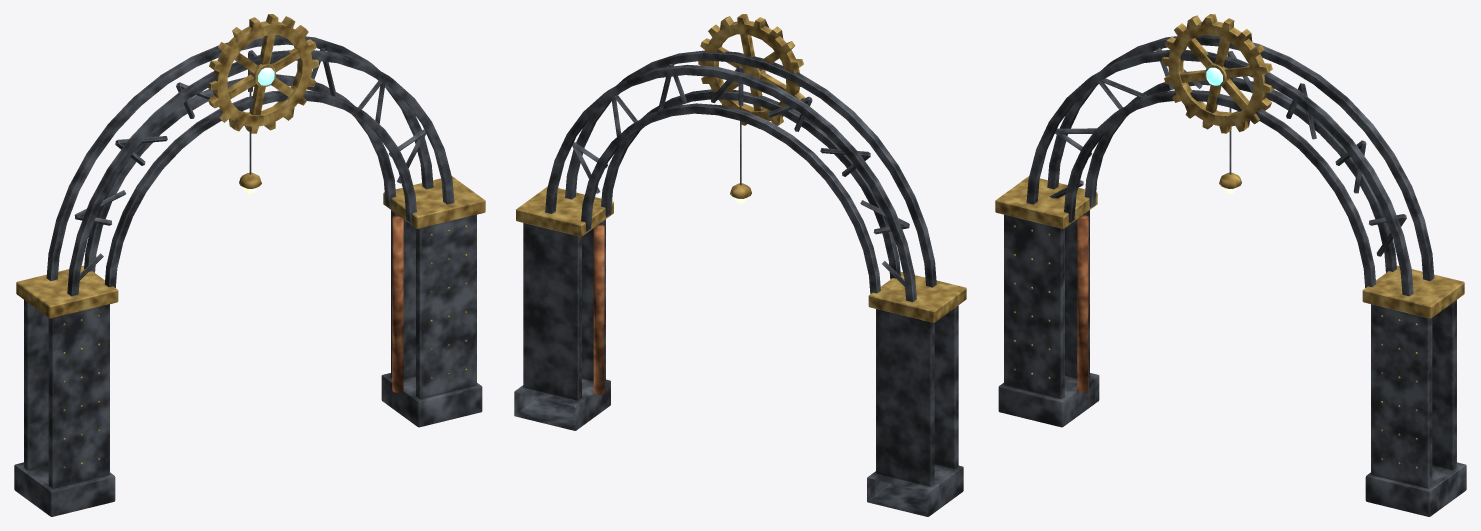
Rendered from ClockLung_Arch.fbx.
3 renders of one model, left to right at view 1: azimuth 30°, elevation 25°; view 2: azimuth 150°, elevation 25°; view 3: azimuth 330°, elevation 25°, orthographic. The views are drawn at different scales.
Visible parts, largest first — view 1: ClockLung_Arch; view 2: ClockLung_Arch; view 3: ClockLung_Arch.
Part boxes in pixels (x1,y1,x2,y2): ClockLung_Arch: (14, 14, 485, 516); ClockLung_Arch: (514, 14, 966, 516); ClockLung_Arch: (995, 14, 1466, 516).
Bounding box in the file's own units: 6.06 × 5.9 × 0.9485.
